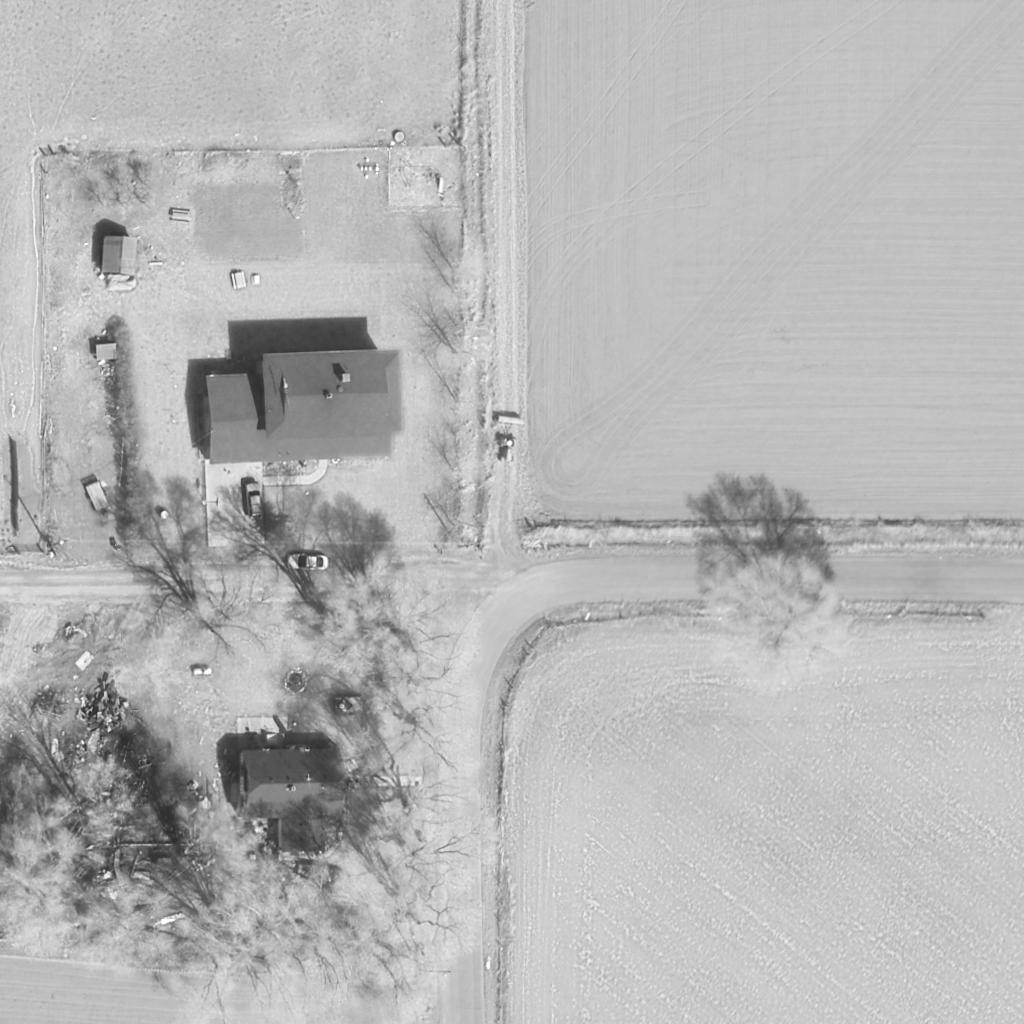vehicle: (490, 415, 528, 467), (294, 862, 348, 886), (287, 551, 329, 573), (246, 484, 264, 520)
